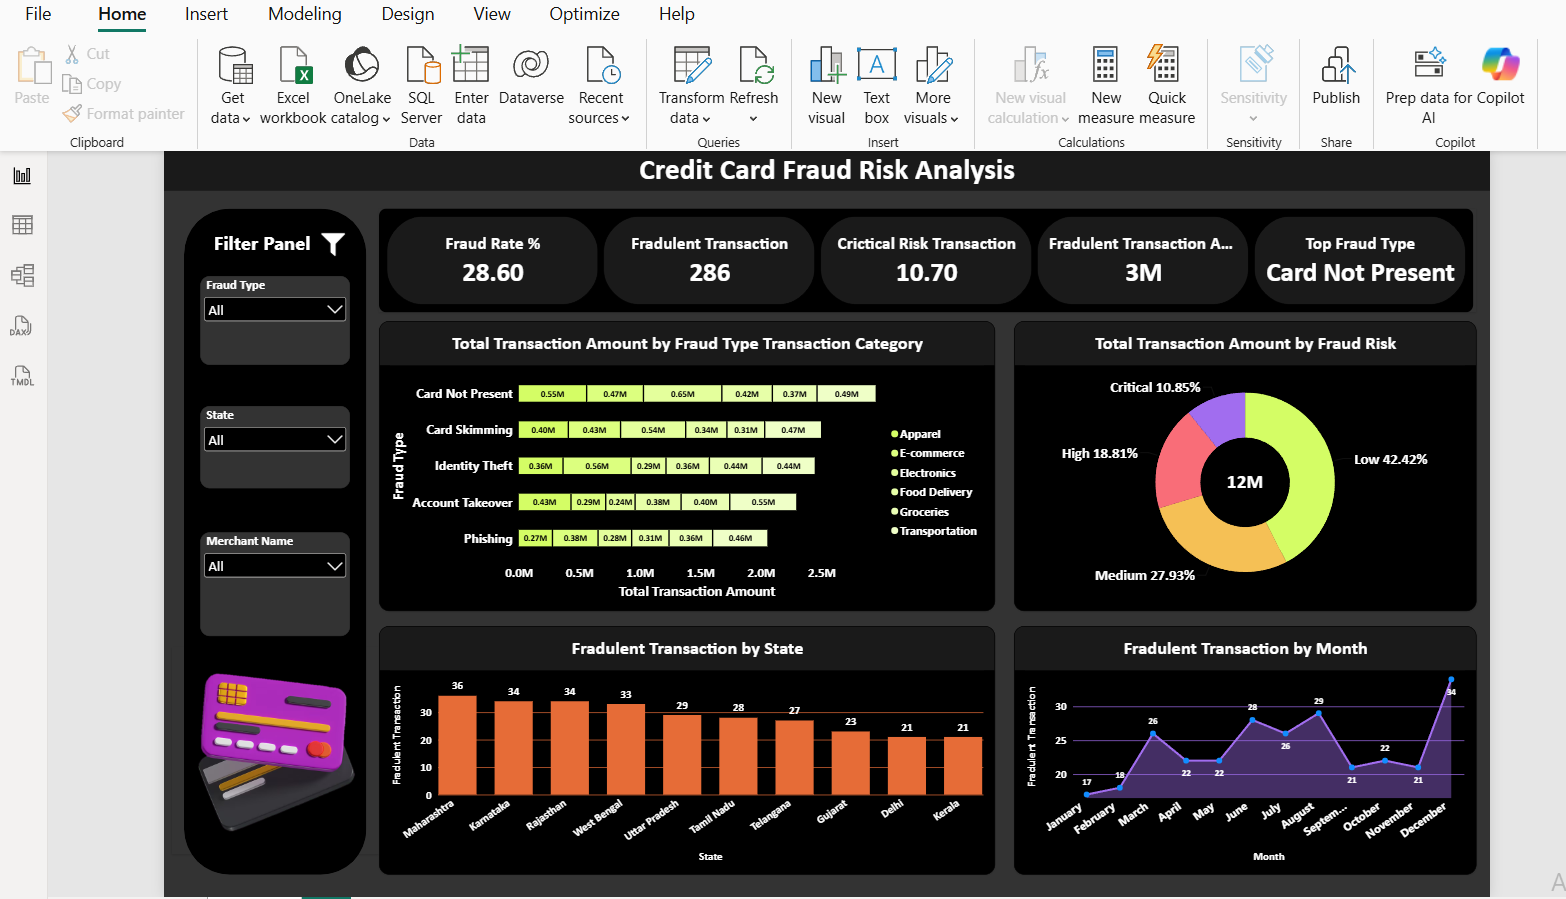

This screenshot's page, from the dashboard's own definition file:
{"tool":"powerbi","page":{"name":"Page 1","canvas":[1920,1080],"ordinal":0},"visuals":[{"type":"textbox","box":[0,0,1920.1,57.9],"z":0},{"type":"shape","box":[29,83.2,264.2,964.5],"z":1000},{"type":"textbox","box":[52.5,114,179.2,47.1],"z":2000},{"type":"barChart","title":"Total Transaction Amount by Fraud Type Transaction Category","fields":{"Category":["Credit Card Fraud Risk Analysis.Fraud Type"],"Series":["Credit Card Fraud Risk Analysis.Transaction Category"],"Y":["Credit Card Fraud Risk Analysis.Total Transaction Amount"]},"box":[311.3,246.1,892.2,419.8],"z":3000},{"type":"donutChart","fields":{"Category":["Credit Card Fraud Risk Analysis.Fraud Risk"],"Y":["Credit Card Fraud Risk Analysis.Total Transaction Amount"]},"box":[1230.6,246.1,669.6,419.8],"z":4000},{"type":"columnChart","fields":{"Category":["Credit Card Fraud Risk Analysis.State"],"Y":["Credit Card Fraud Risk Analysis.Fradulent Transaction"]},"box":[311.3,687.7,892.2,360.1],"z":5000},{"type":"lineChart","fields":{"Category":["Credit Card Fraud Risk Analysis.Transaction Date.Variation.Date Hierarchy.Month"],"Y":["Credit Card Fraud Risk Analysis.Fradulent Transaction"]},"box":[1230.6,687.7,669.6,360.1],"z":6000},{"type":"slicer","fields":{"Values":["Credit Card Fraud Risk Analysis.Fraud Type"]},"box":[52.5,181,217.2,128.5],"z":7000},{"type":"slicer","fields":{"Values":["Credit Card Fraud Risk Analysis.State"]},"box":[52.5,369.2,217.2,119.4],"z":8000},{"type":"slicer","fields":{"Values":["Credit Card Fraud Risk Analysis.Merchant Name"]},"box":[52.5,551.9,217.2,150.2],"z":9000},{"type":"cardVisual","fields":{"Data":["Credit Card Fraud Risk Analysis.Fraud Rate %","Credit Card Fraud Risk Analysis.Fradulent Transaction","Credit Card Fraud Risk Analysis.Crictical Risk Transaction","Credit Card Fraud Risk Analysis.Fradulent Transaction Amount","Credit Card Fraud Risk Analysis.Top Fraud Type"]},"box":[311.3,83.2,1588.9,150.2],"z":10000},{"type":"image","box":[197.3,110.4,95.9,54.3],"z":11000},{"type":"image","box":[10.9,718.4,300,300],"z":11001}]}

Visuals, with their boxes on the page's 1920x1080 design canvas (x1, y1, x2, y2). These are canvas units, not pixel positions in the 1566x899 screenshot, which may show the page scaled, cropped or inside an application window:
textbox: detection(0, 0, 1920, 58)
shape: detection(29, 83, 293, 1048)
textbox: detection(52, 114, 232, 161)
"Total Transaction Amount by Fraud Type Transaction Category" barChart: detection(311, 246, 1204, 666)
donutChart - Credit Card Fraud Risk Analysis.Fraud Risk x Credit Card Fraud Risk Analysis.Total Transaction Amount: detection(1231, 246, 1900, 666)
columnChart - Credit Card Fraud Risk Analysis.State x Credit Card Fraud Risk Analysis.Fradulent Transaction: detection(311, 688, 1204, 1048)
lineChart - Credit Card Fraud Risk Analysis.Transaction Date.Variation.Date Hierarchy.Month x Credit Card Fraud Risk Analysis.Fradulent Transaction: detection(1231, 688, 1900, 1048)
slicer - Credit Card Fraud Risk Analysis.Fraud Type: detection(52, 181, 270, 310)
slicer - Credit Card Fraud Risk Analysis.State: detection(52, 369, 270, 489)
slicer - Credit Card Fraud Risk Analysis.Merchant Name: detection(52, 552, 270, 702)
cardVisual - Credit Card Fraud Risk Analysis.Fraud Rate % x Credit Card Fraud Risk Analysis.Fradulent Transaction: detection(311, 83, 1900, 233)
image: detection(197, 110, 293, 165)
image: detection(11, 718, 311, 1018)
